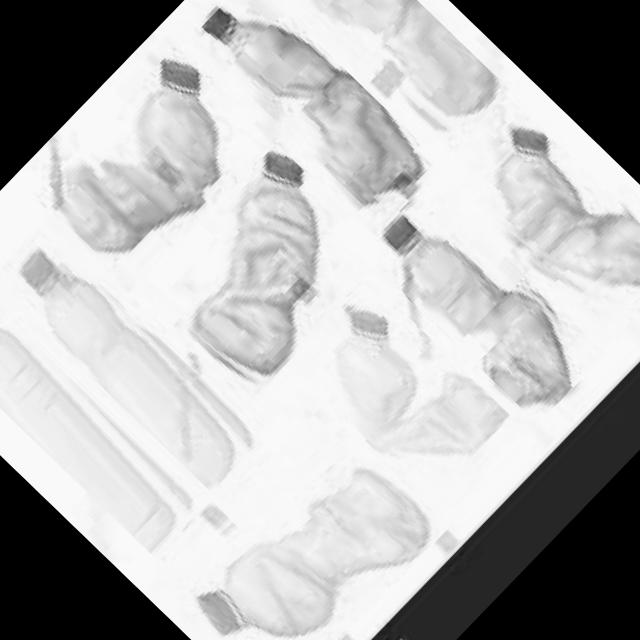plastic bottle: (0, 225, 278, 503), (153, 408, 450, 640), (138, 143, 394, 399), (20, 38, 274, 292), (0, 262, 213, 560), (360, 182, 606, 424), (191, 0, 444, 226), (289, 280, 512, 500), (450, 110, 640, 333), (251, 0, 514, 159)
